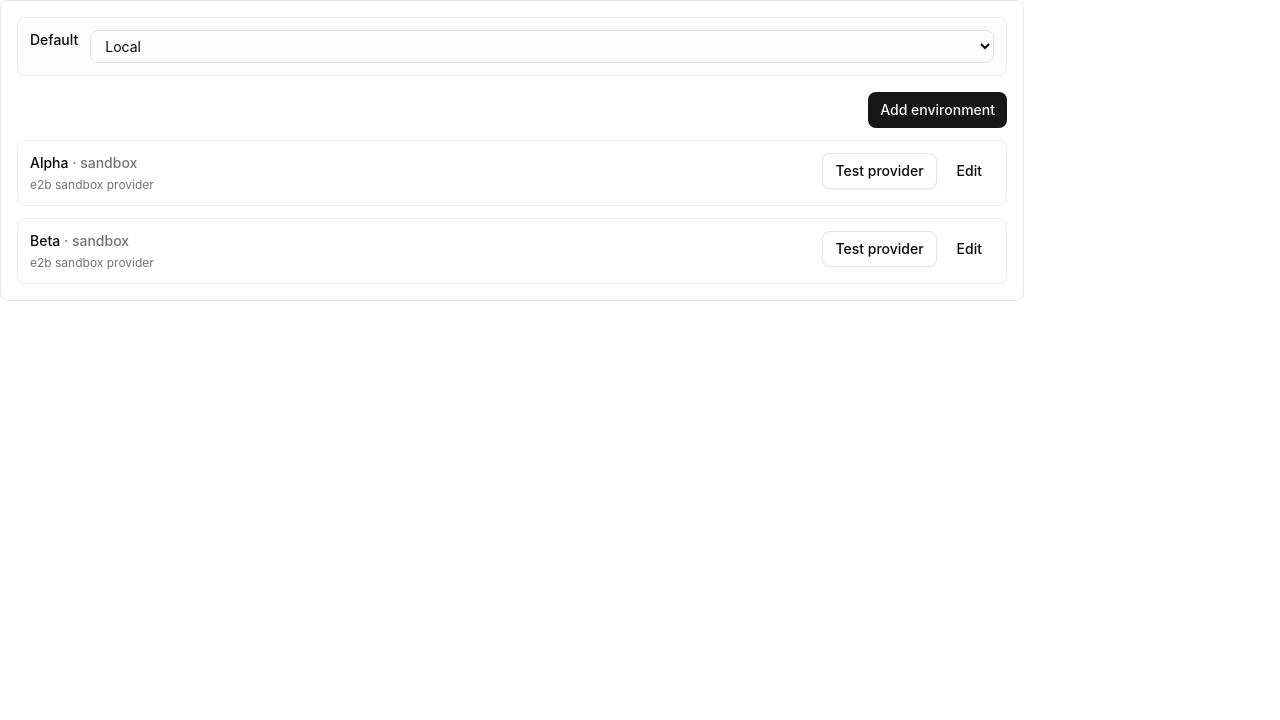
Test: CompanyEnvironments — test provider button › opens the edit form in a dialog with existing values and closes after save
Step 1. Click the button "Edit" in the row of "Alpha" → (969, 171), box [945,153,994,189]
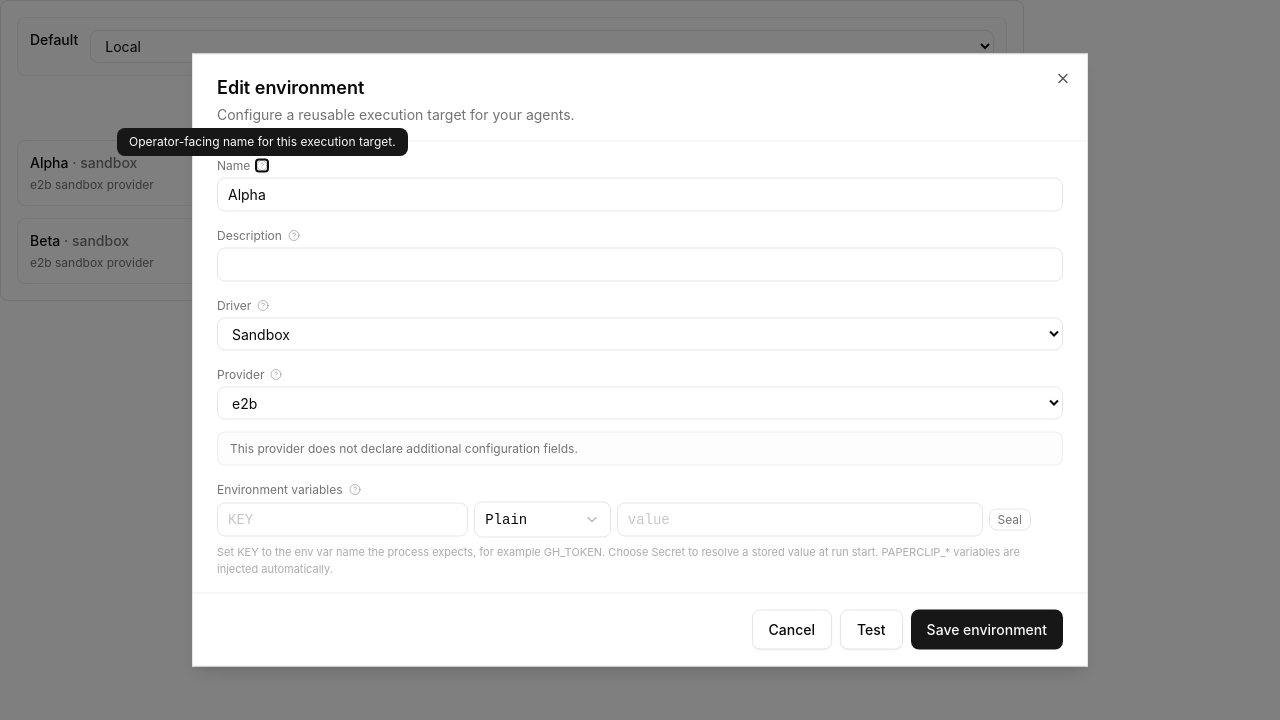
Expected: the dialog shows "Edit environment", [217,76,364,98]
Step 2. Click the button "Save environment" → (987, 630), box [911,610,1063,650]
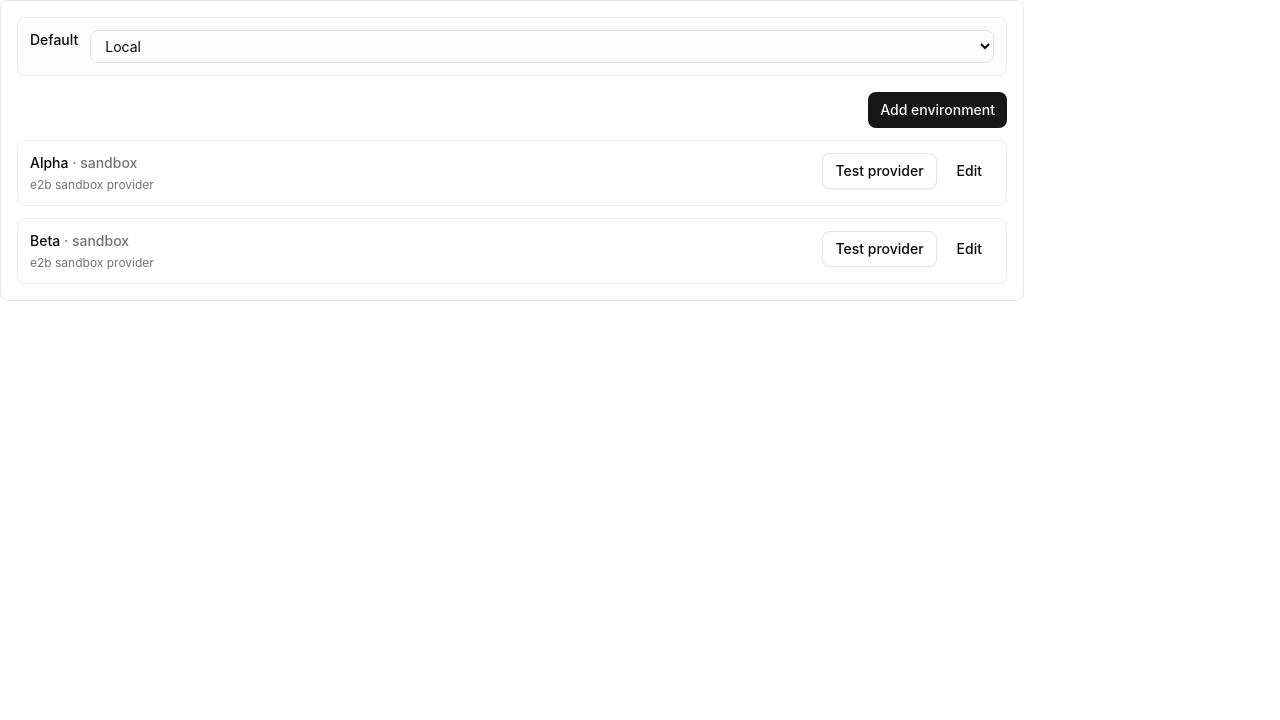
Expected: the dialog is gone
